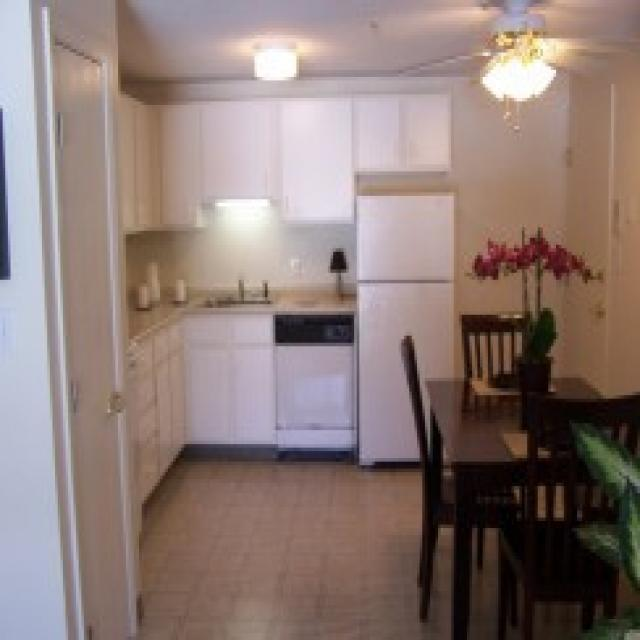chair: (496, 388, 639, 636), (400, 353, 530, 624), (462, 312, 532, 380), (401, 326, 421, 360)
dining table: (424, 369, 603, 634)
